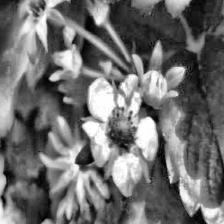Blossom Blight: (103, 104, 141, 156)
